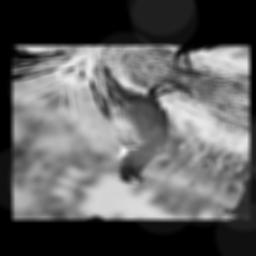Crow: (35, 51, 215, 192)
